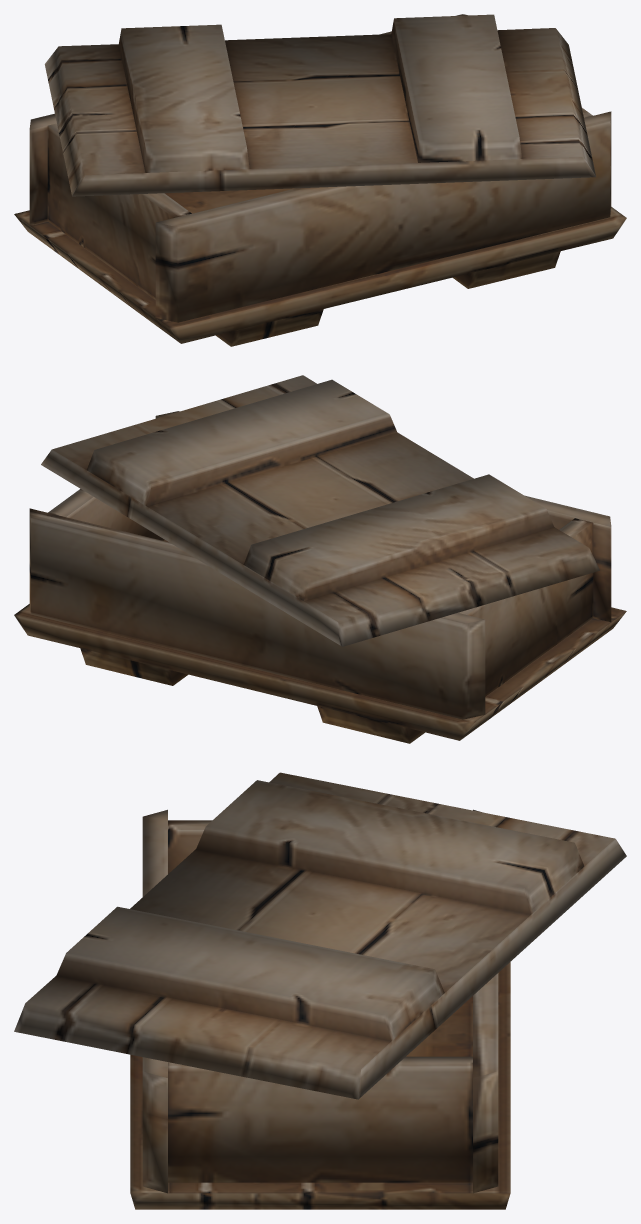
File: Crate-03.fbx
3 renders of one model, top to bottom at view 1: azimuth 30°, elevation 25°; view 2: azimuth 150°, elevation 25°; view 3: azimuth 270°, elevation 25°, orthographic. The views are drawn at different scales.
Parts seen in each view (by area): view 1: Crate-03; view 2: Crate-03; view 3: Crate-03.
Boxes of the visible parts, box(x1,y1,x2,y2) form: Crate-03: box(14, 14, 626, 346); Crate-03: box(14, 375, 626, 743); Crate-03: box(14, 772, 626, 1209).
Bounding box in the file's own units: 0.4346 × 0.135 × 0.3617.
1 material, 1 textured.
